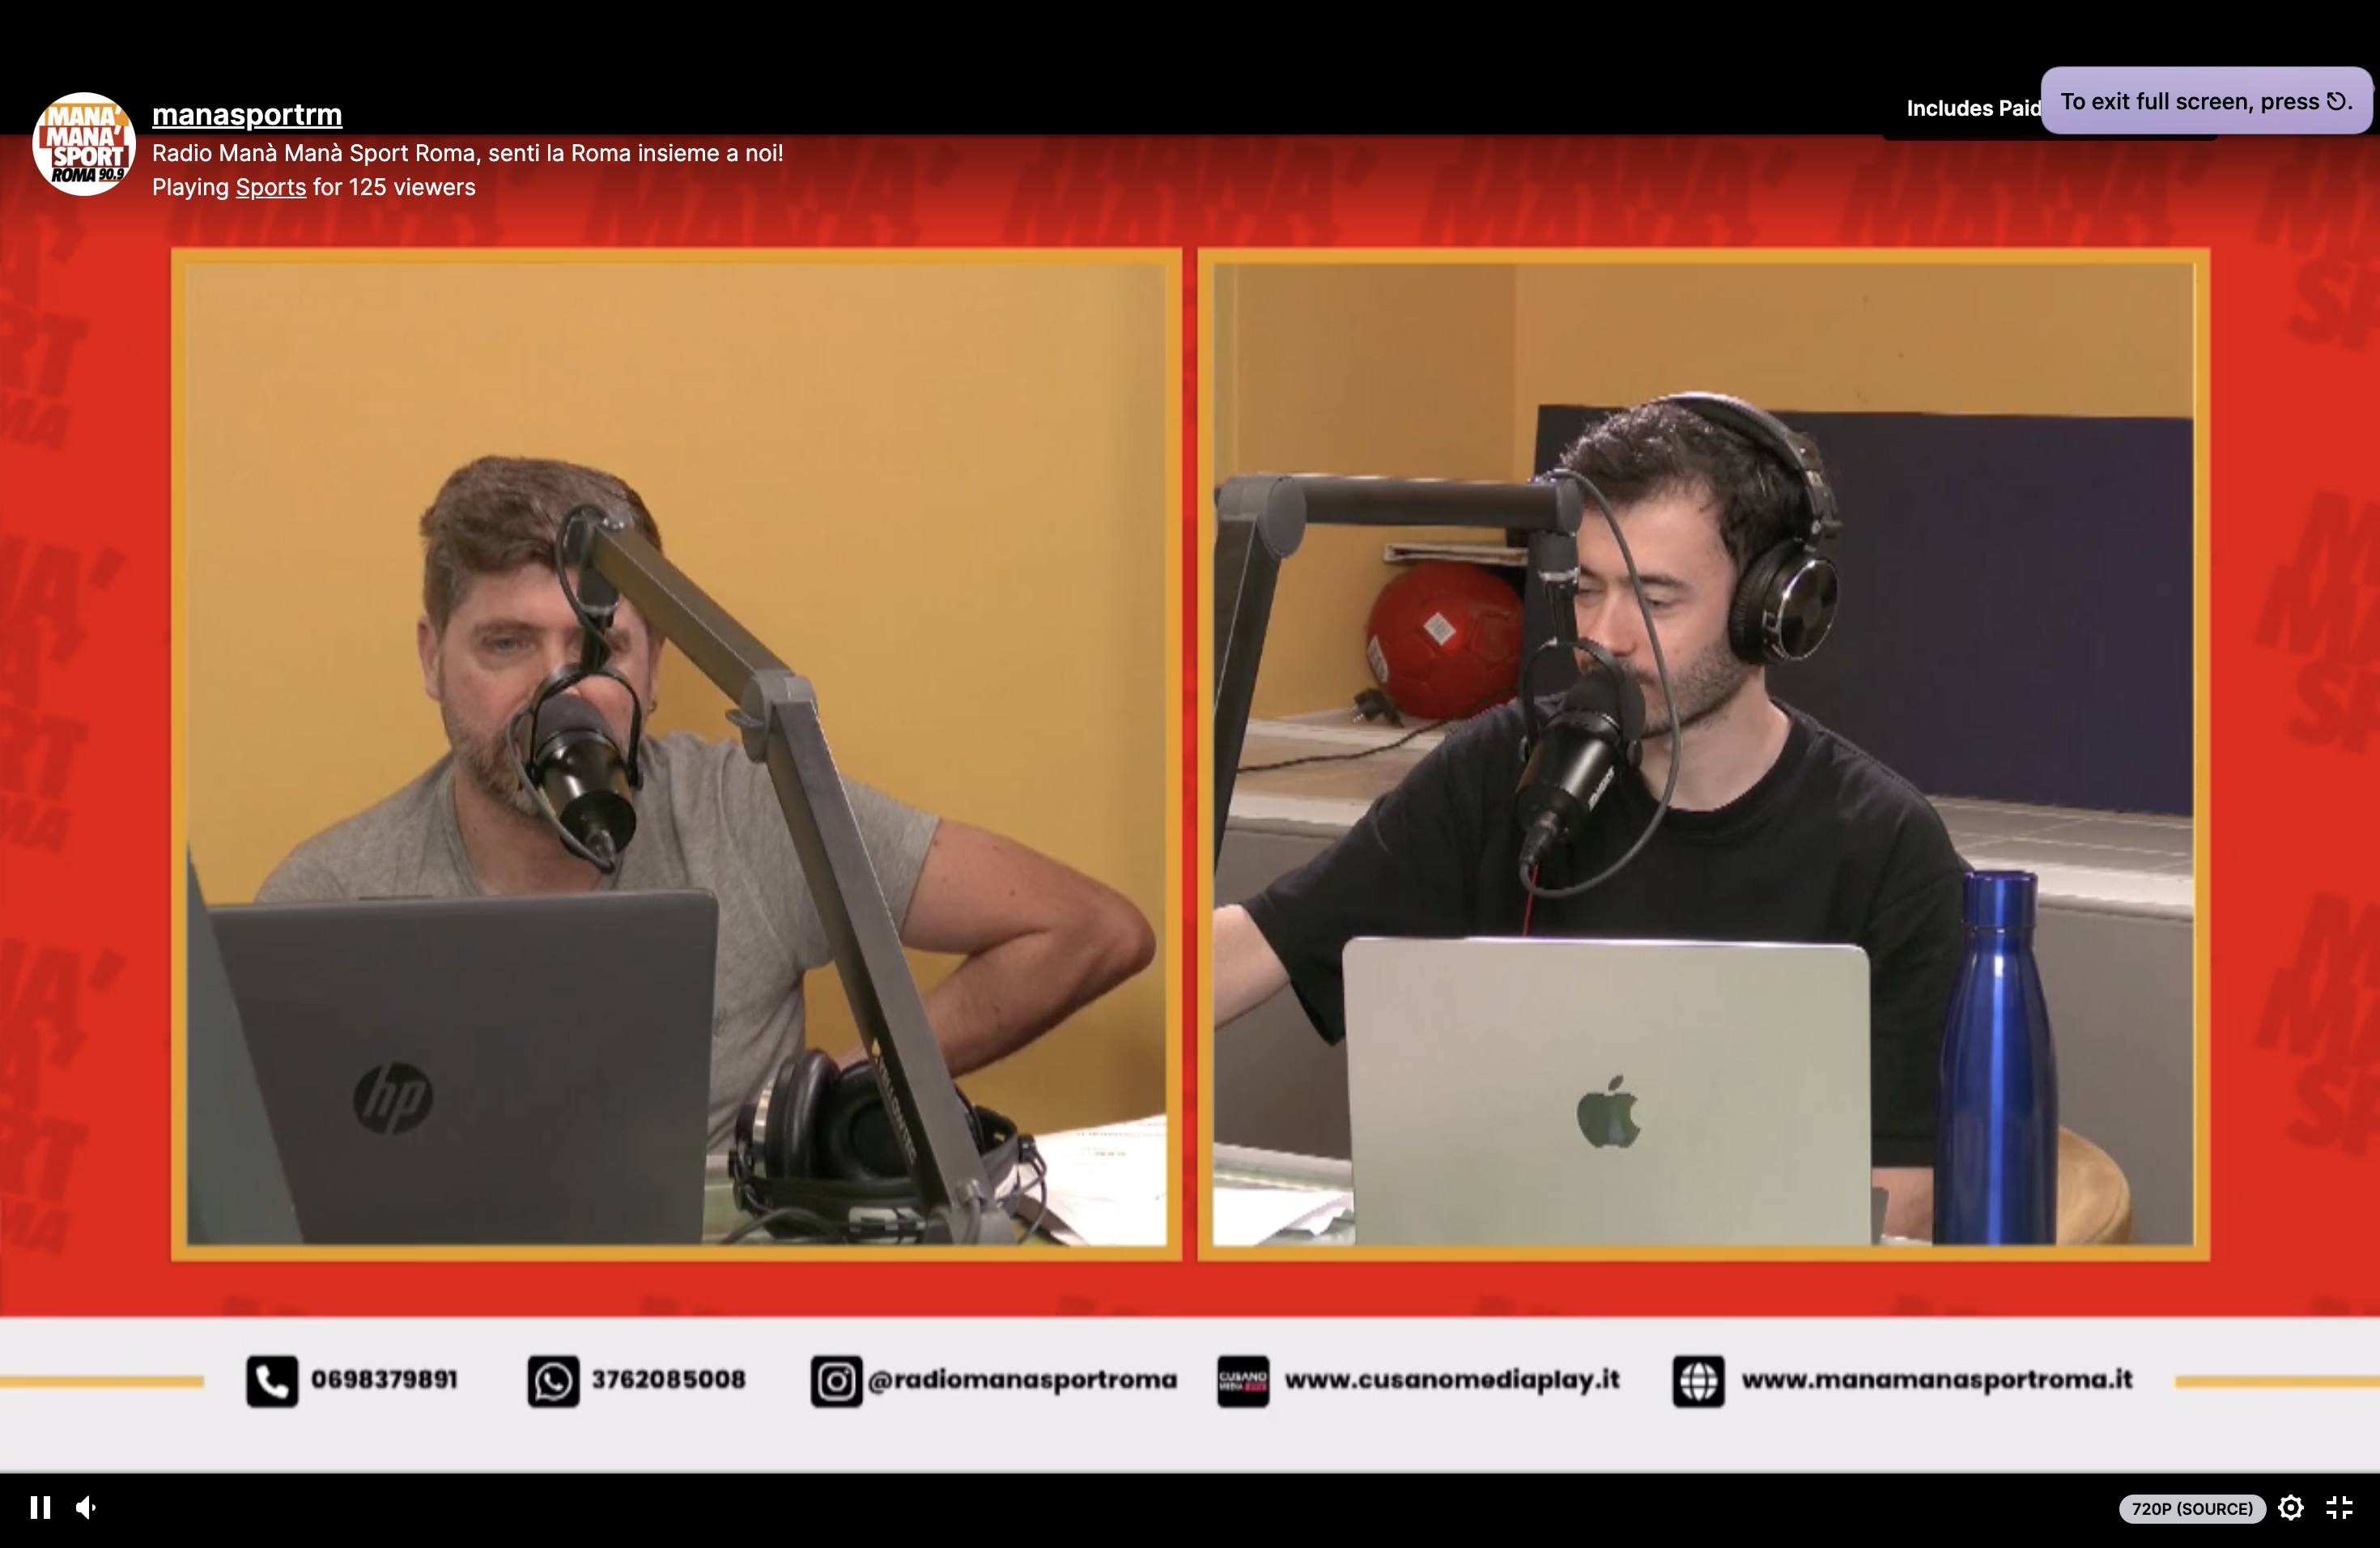person: (248, 449, 1157, 1178), (1212, 386, 1979, 1241)
